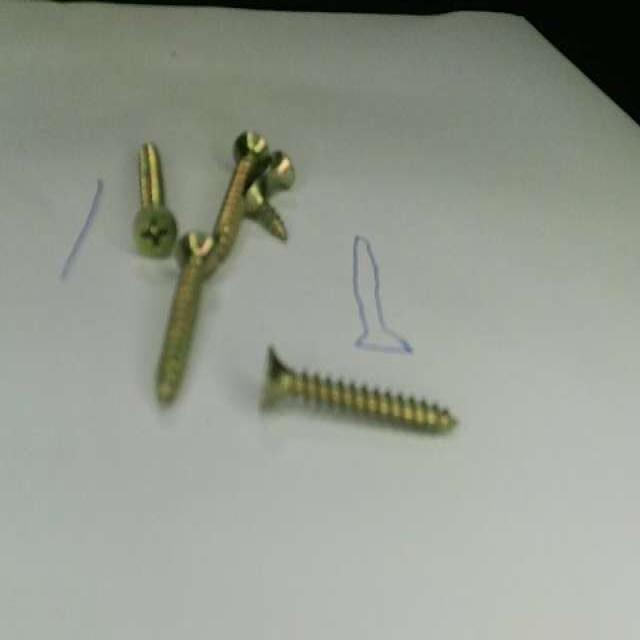Parafuso: (262, 349, 457, 433), (156, 235, 218, 406), (217, 133, 269, 261), (134, 145, 177, 259), (245, 180, 287, 241), (263, 152, 295, 196)
